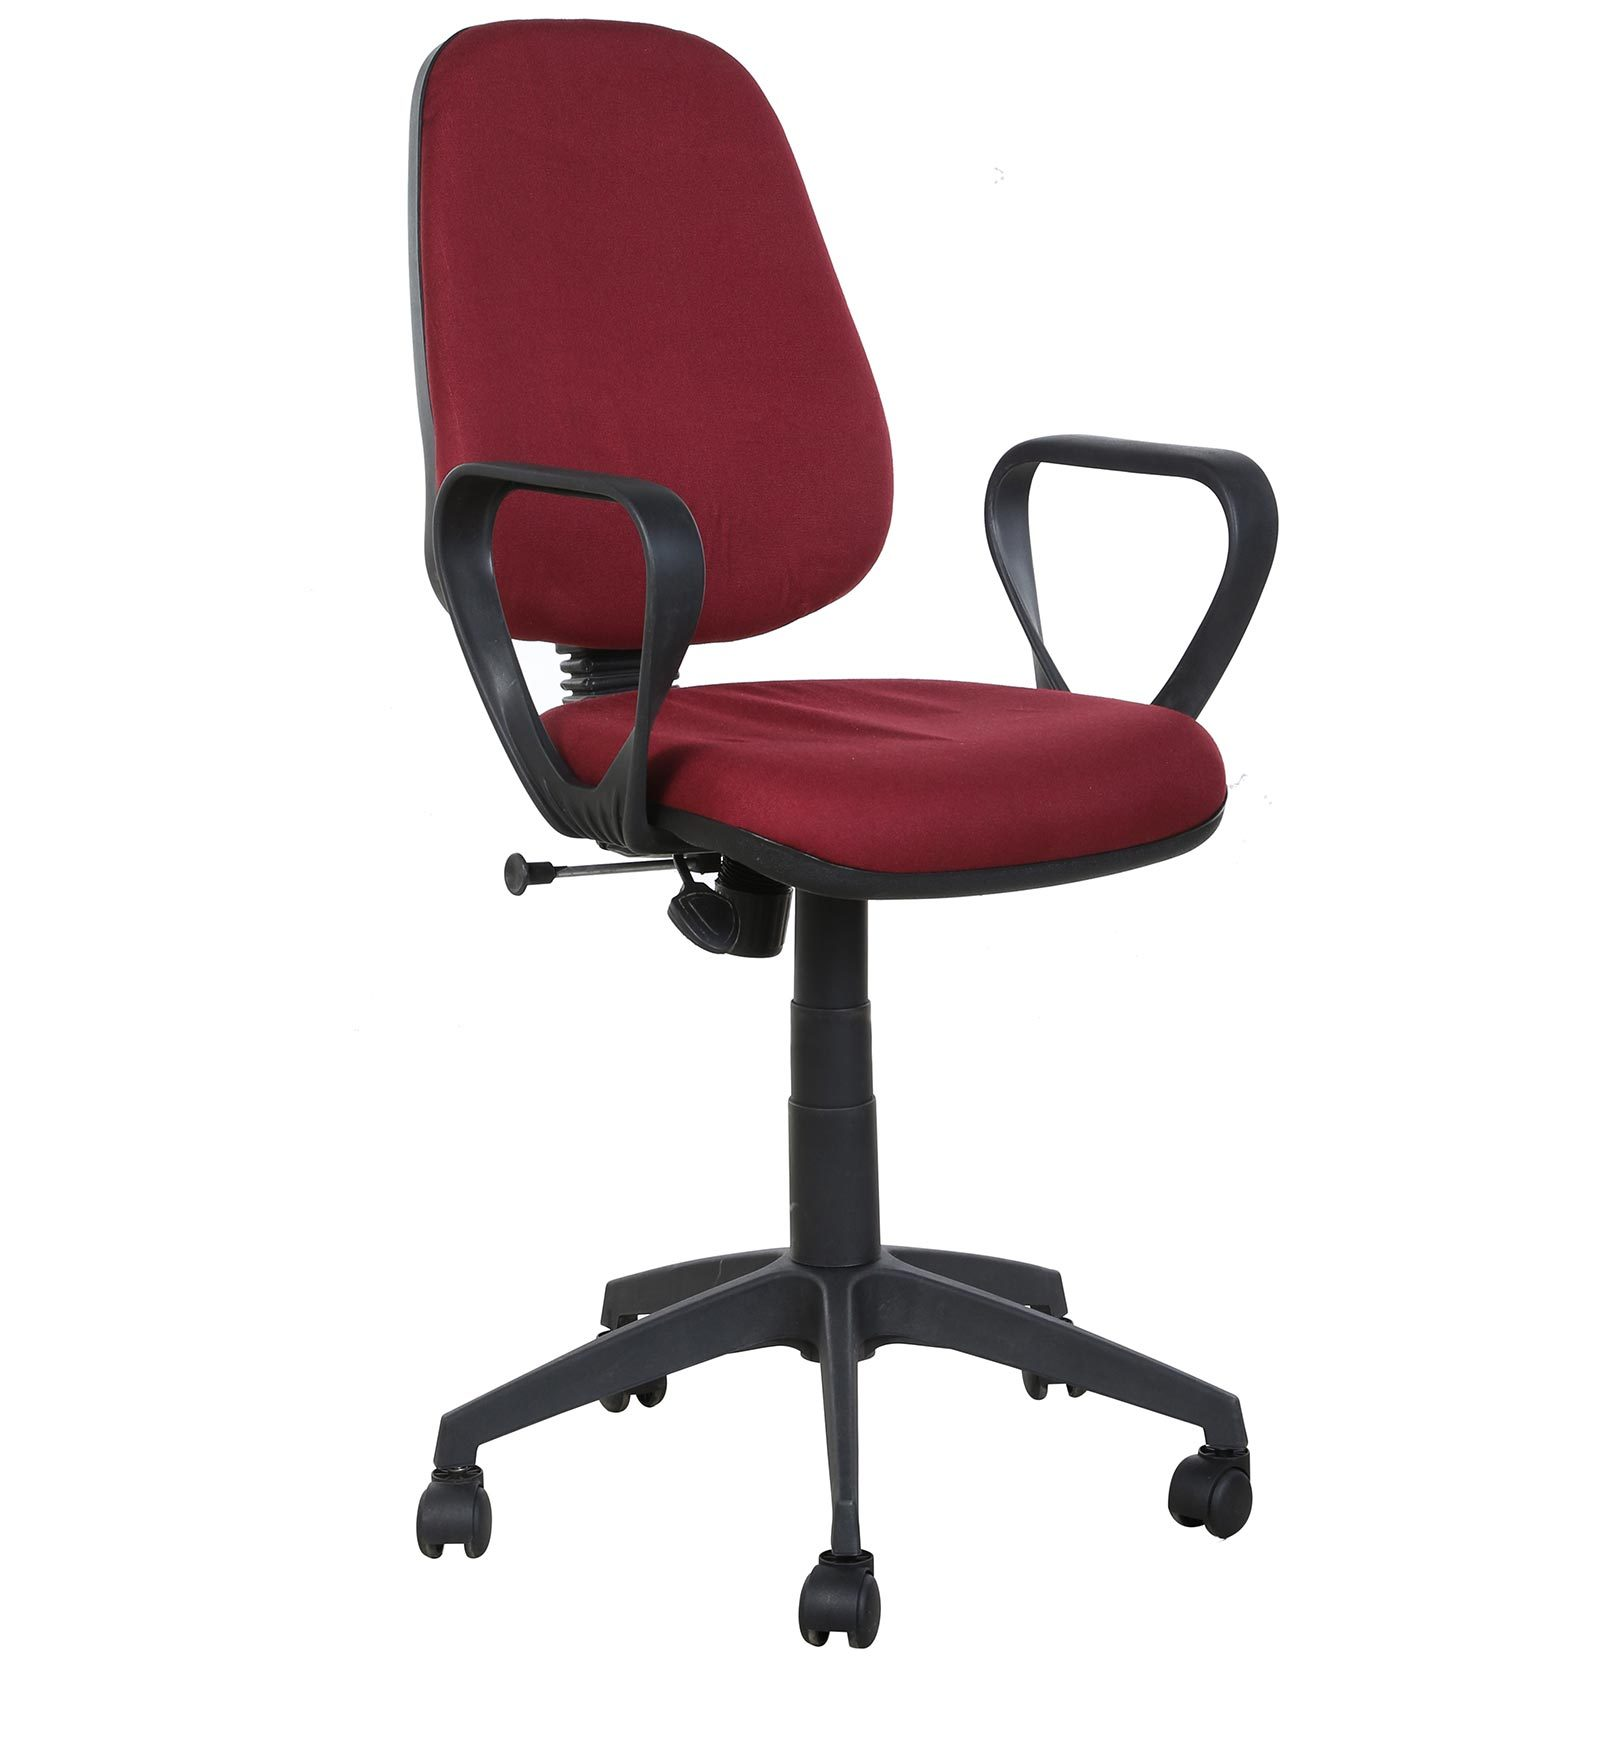Star Ergonomic Chair in Maroon Colour by Parin: (323, 8, 1346, 1676)
